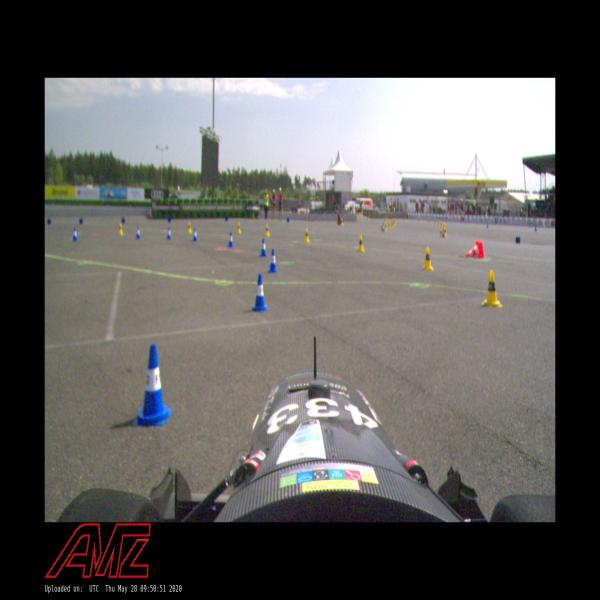blue_cone: (132, 344, 172, 425), (251, 273, 269, 313), (268, 248, 278, 273), (259, 238, 267, 258), (227, 232, 234, 248), (192, 227, 198, 242), (72, 227, 78, 242), (167, 226, 172, 240), (136, 225, 140, 239), (382, 223, 384, 232)
orange_cone: (465, 240, 484, 259)
yellow_cone: (482, 270, 502, 308), (422, 246, 433, 270), (357, 234, 364, 252), (303, 228, 310, 242), (264, 223, 270, 237), (118, 222, 123, 235), (187, 222, 192, 233), (236, 222, 241, 233), (380, 223, 382, 231)
